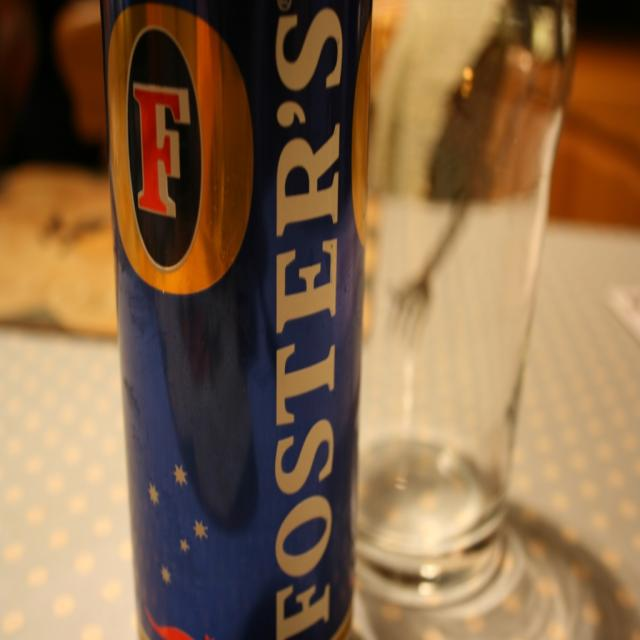fosters: (107, 2, 255, 302)
